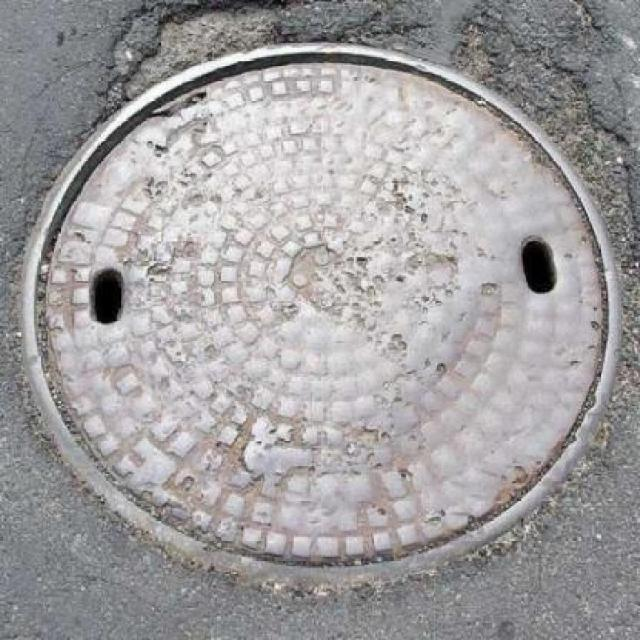Manhole: (9, 40, 626, 599)
